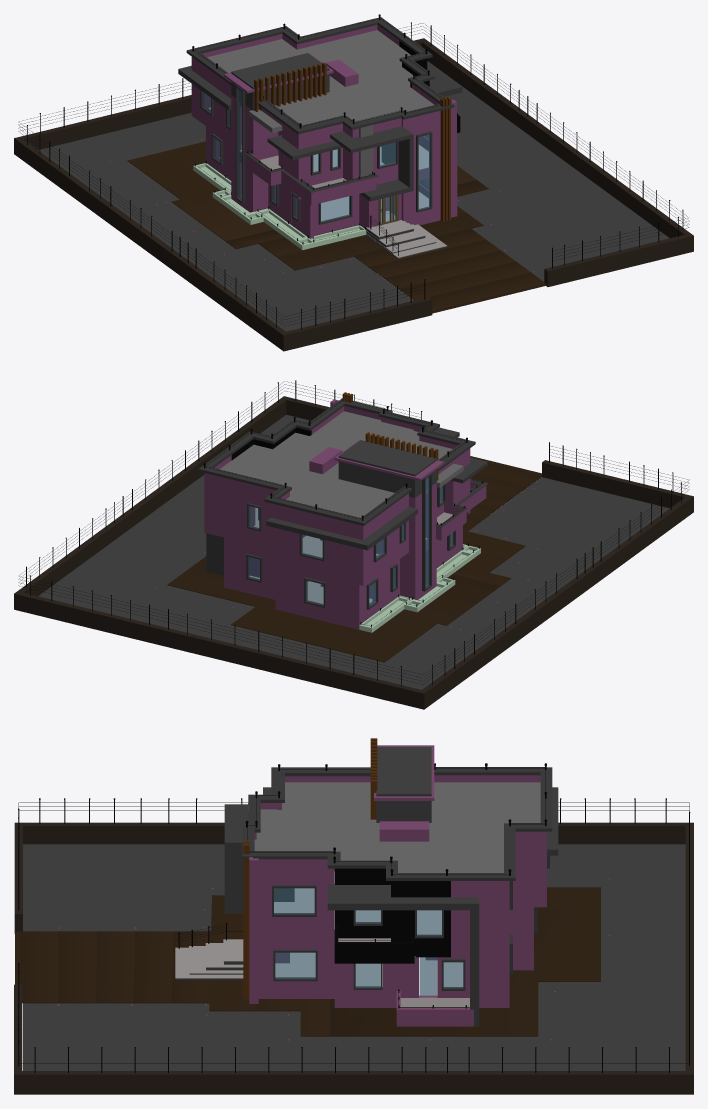
The model's file is final.villa3.glb.
3 views of the same model, one above another, from view 1: azimuth 30°, elevation 25°; view 2: azimuth 150°, elevation 25°; view 3: azimuth 270°, elevation 25° (orthographic). The views are drawn at different scales.
Visible parts, largest first — view 1: Rectangle007, house, Line055, Line061, Line015, stickes, windows, Box023, Box070, Line018, Box008, Box042 (+6 smaller); view 2: Rectangle007, house, Line055, Line061, Line015, windows, Box023, stickes, Line060, Line059, Line057, Line058 (+2 smaller); view 3: Rectangle007, house, Line061, Line055, Line015, balconie, Line018, windows, stickes, Line014, Object002_Material #24_0, Box072 (+12 smaller).
Boxes of the visible parts, x1,y1,x2,y2 form: Rectangle007: [38, 61, 669, 331]; house: [178, 17, 462, 238]; Line055: [14, 38, 693, 351]; Line061: [127, 141, 547, 313]; Line015: [207, 30, 434, 132]; stickes: [254, 62, 450, 221]; windows: [200, 85, 432, 224]; Box023: [193, 163, 366, 250]; Box070: [418, 134, 430, 209]; Line018: [321, 192, 428, 222]; Box008: [321, 196, 349, 221]; Box042: [325, 59, 358, 86]; Rectangle007: [38, 414, 669, 689]; house: [198, 398, 487, 629]; Line055: [14, 396, 693, 709]; Line061: [167, 456, 541, 662]; Line015: [219, 411, 463, 517]; windows: [246, 473, 455, 609]; Box023: [359, 544, 480, 632]; stickes: [342, 392, 438, 480]; Line060: [19, 381, 689, 674]; Line059: [18, 384, 689, 677]; Line057: [18, 391, 689, 684]; Line058: [18, 387, 689, 681]; Rectangle007: [23, 844, 685, 1070]; house: [224, 747, 558, 1026]; Line061: [15, 887, 600, 1036]; Line055: [14, 822, 693, 1094]; Line015: [254, 782, 540, 872]; balconie: [334, 868, 450, 963]; Line018: [275, 953, 462, 995]; windows: [272, 855, 549, 990]; stickes: [243, 738, 377, 998]; Line014: [274, 871, 441, 933]; Object002_Material #24_0: [396, 991, 473, 1026]; Box072: [275, 952, 315, 978].
Size of the model in its own units: 26.92 by 8.7 by 30.69.
